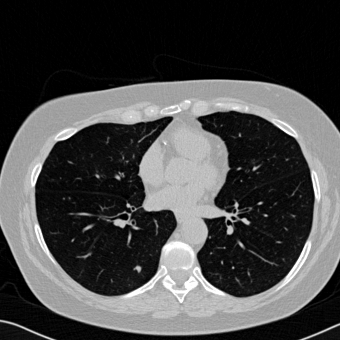nodule: (135, 266, 141, 272)
